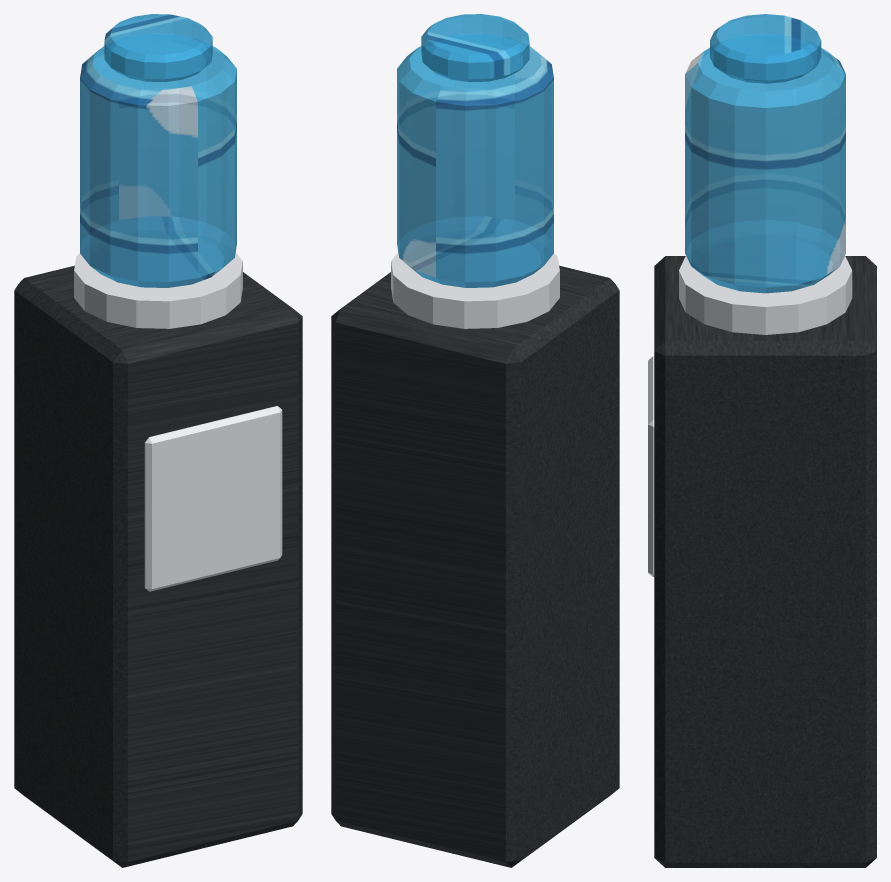
Rendered from 05_Dispensador_Agua.obj.
The picture shows the model from 3 angles, left to right: view 1: azimuth 30°, elevation 25°; view 2: azimuth 150°, elevation 25°; view 3: azimuth 270°, elevation 25°; orthographic projection.
Parts seen in each view (by area): view 1: 05_Dispensador_Agua; view 2: 05_Dispensador_Agua; view 3: 05_Dispensador_Agua.
Boxes of the visible parts, x1,y1,x2,y2 form: 05_Dispensador_Agua: [14, 14, 302, 867]; 05_Dispensador_Agua: [331, 14, 619, 867]; 05_Dispensador_Agua: [648, 14, 876, 867].
Bounding box in the file's own units: 0.36 × 1.41 × 0.37.
